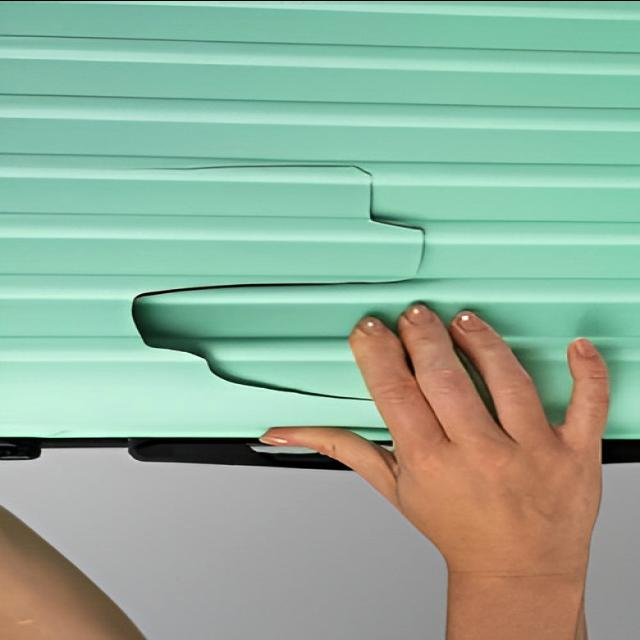Damage-bag: (131, 162, 423, 348), (211, 370, 369, 399), (160, 345, 212, 371)
